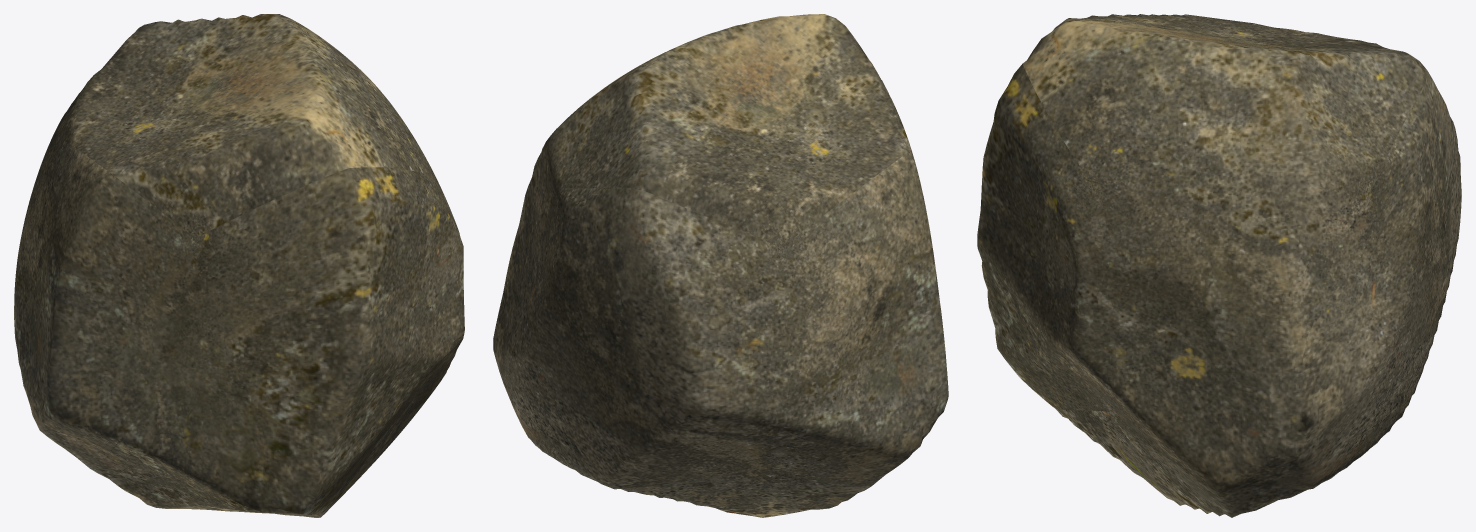
Rendered from Rock.glb.
The picture shows the model from 3 angles, left to right: view 1: azimuth 30°, elevation 25°; view 2: azimuth 150°, elevation 25°; view 3: azimuth 270°, elevation 25°; orthographic projection.
Visible parts, largest first — view 1: Mesh; view 2: Mesh; view 3: Mesh.
Part boxes in pixels (x1,y1,x2,y2): Mesh: (14, 14, 464, 517); Mesh: (493, 14, 948, 517); Mesh: (977, 14, 1461, 517).
Size of the model in its own units: 1.45 by 1.57 by 1.49.
Materials: 1 (1 with a texture image).
